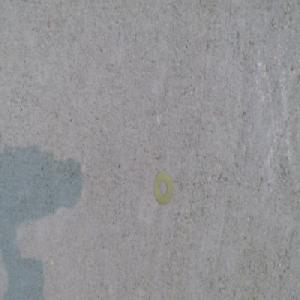Washer: (153, 171, 174, 204)
